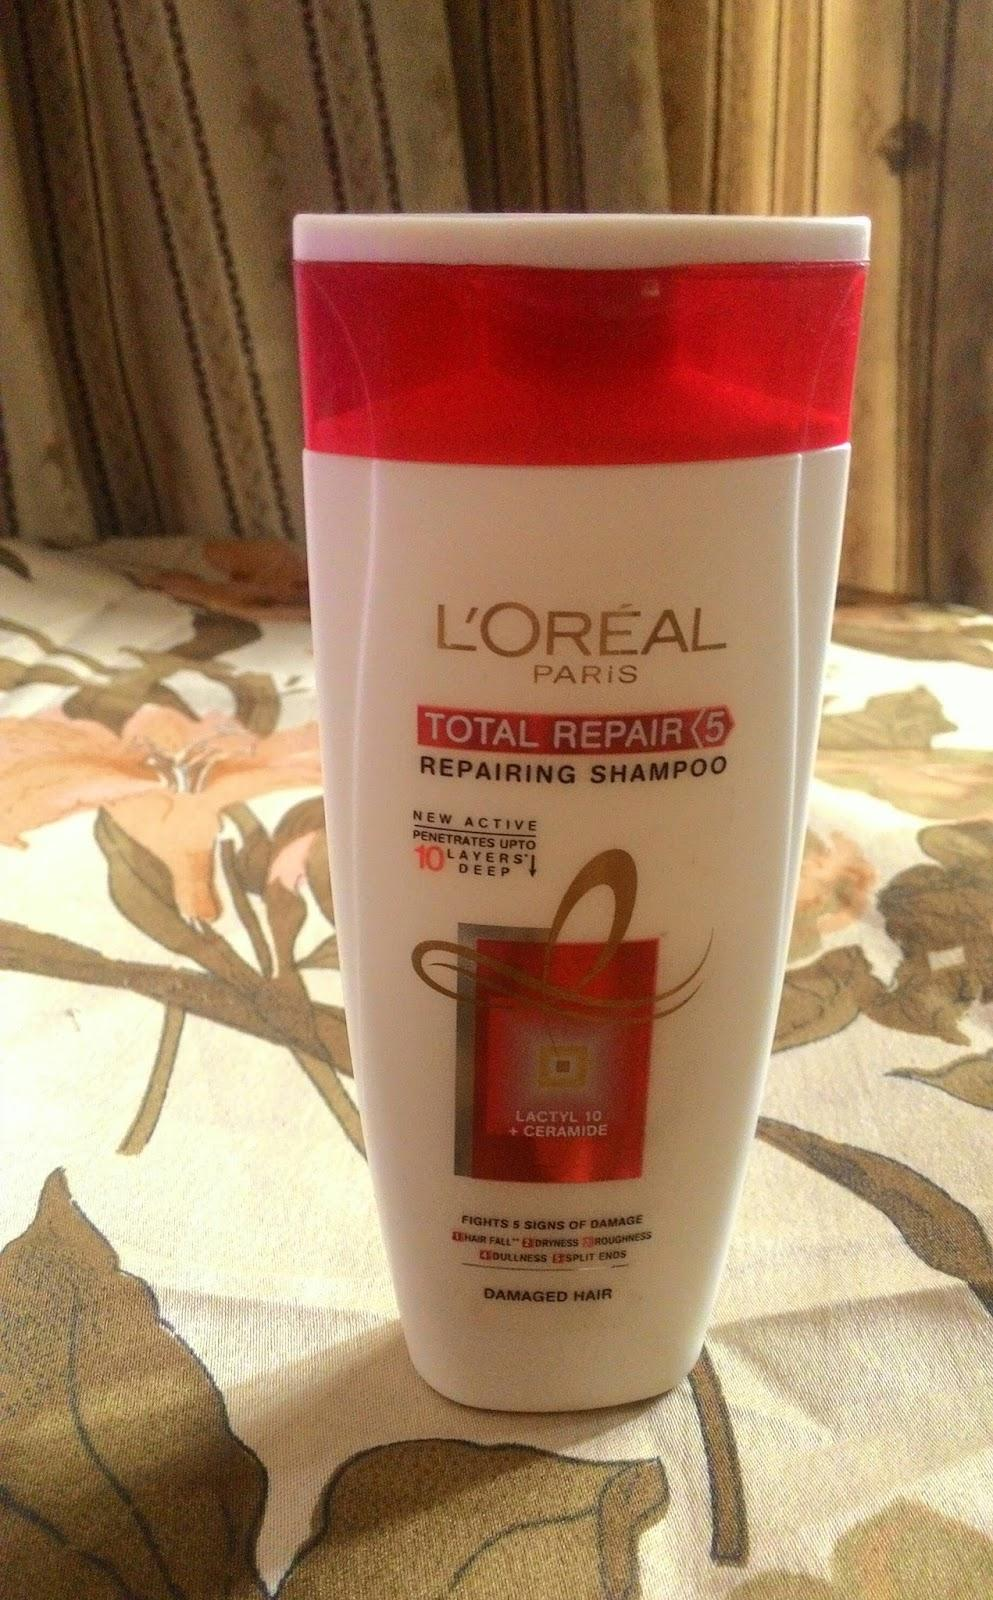Loreal: (287, 200, 877, 1422)
